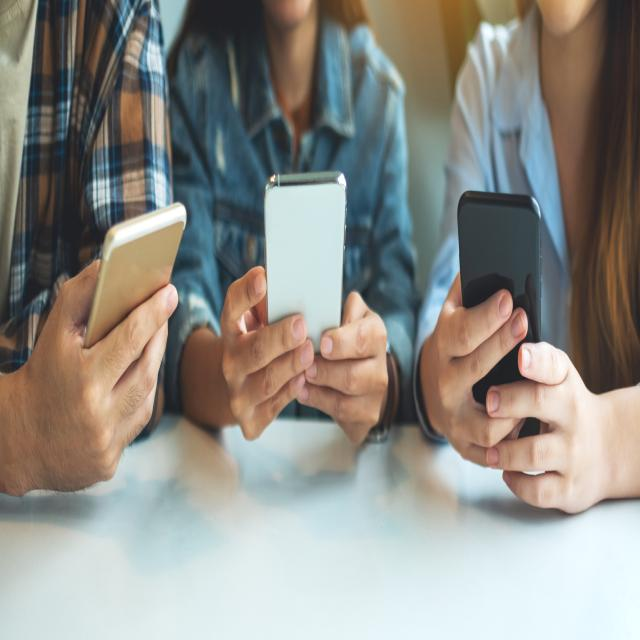phone: (407, 139, 570, 531), (17, 177, 227, 476), (229, 149, 355, 446)
